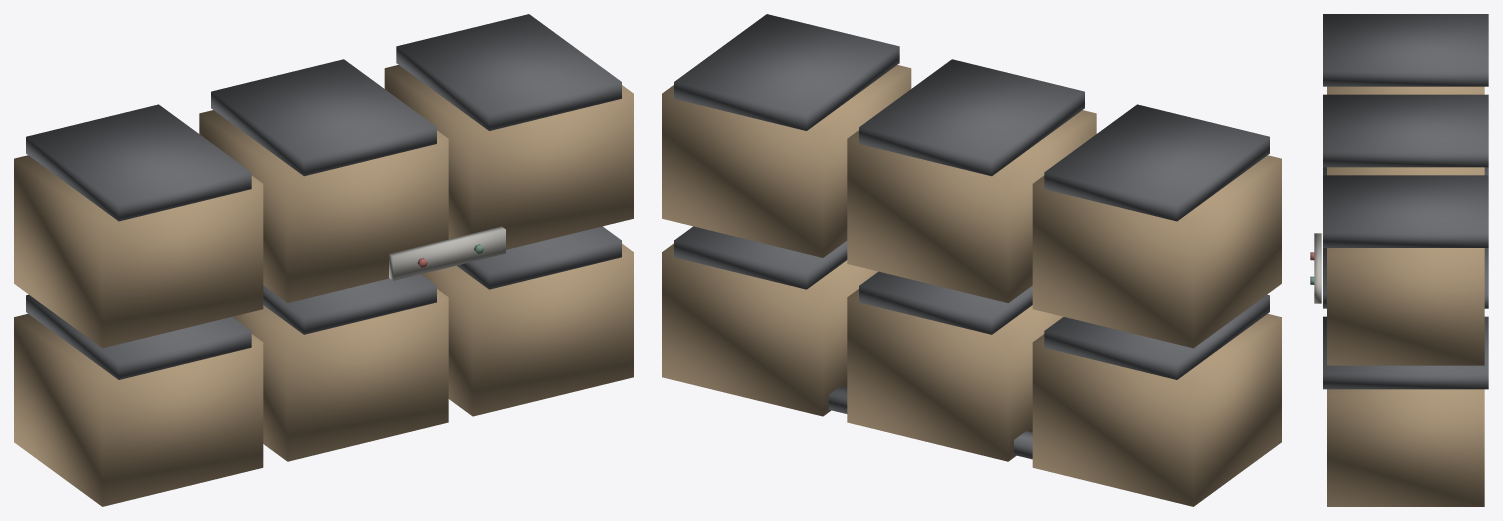
File: fruit_crate_display__reinforced.glb
3 views of the same model, side by side, from view 1: azimuth 30°, elevation 25°; view 2: azimuth 150°, elevation 25°; view 3: azimuth 270°, elevation 25° (orthographic). The views are drawn at different scales.
Visible parts, largest first — view 1: world; view 2: world; view 3: world.
Part boxes in pixels (<box>): world: <box>14,14,633,506</box>; world: <box>662,14,1281,506</box>; world: <box>1310,14,1488,506</box>.
Bounding box in the file's own units: 1.36 × 0.7344 × 0.4439.
